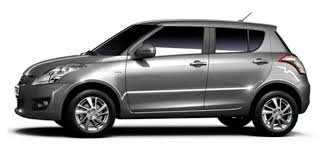Swift: (12, 15, 312, 135)
